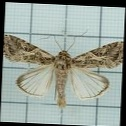Spodoptera litura: (2, 26, 122, 106)
